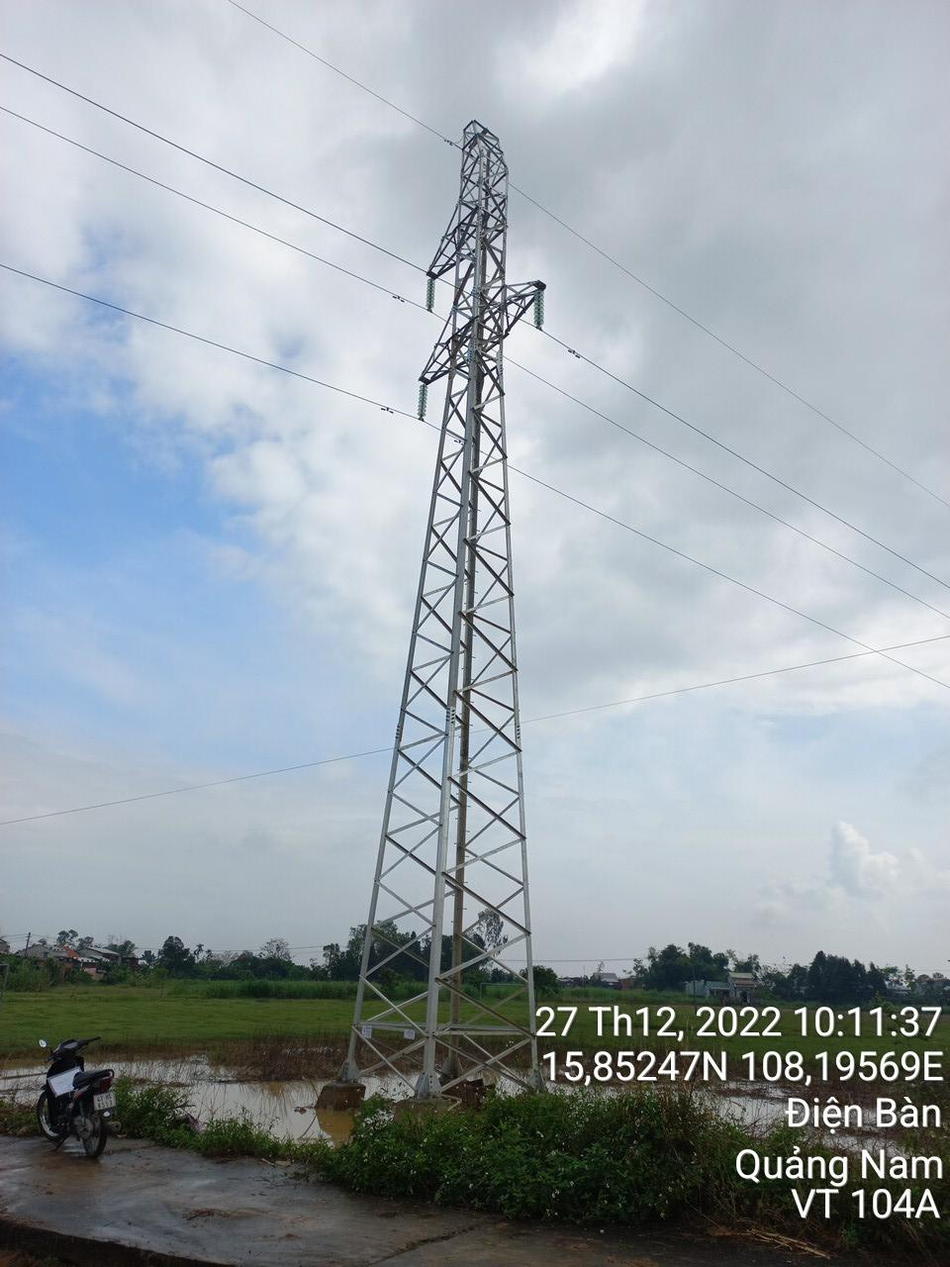power_tower: (364, 105, 546, 1018)
